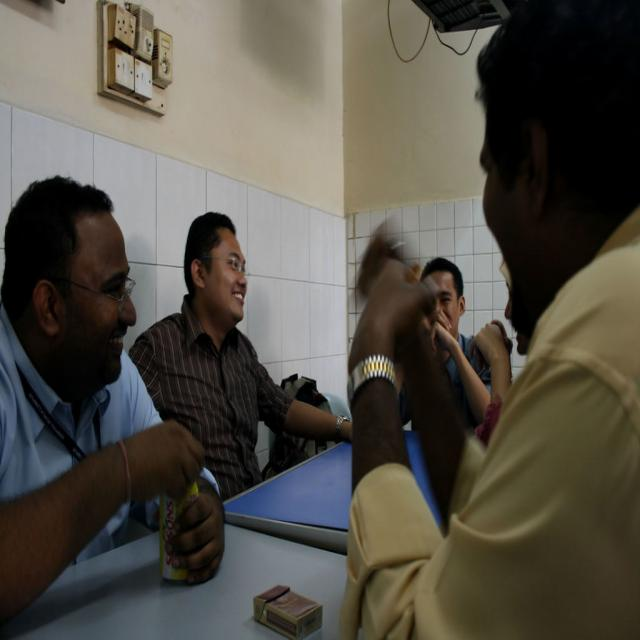desk: (0, 428, 401, 640)
person: (344, 0, 640, 630), (1, 174, 226, 622), (128, 210, 354, 499), (421, 257, 511, 428)
